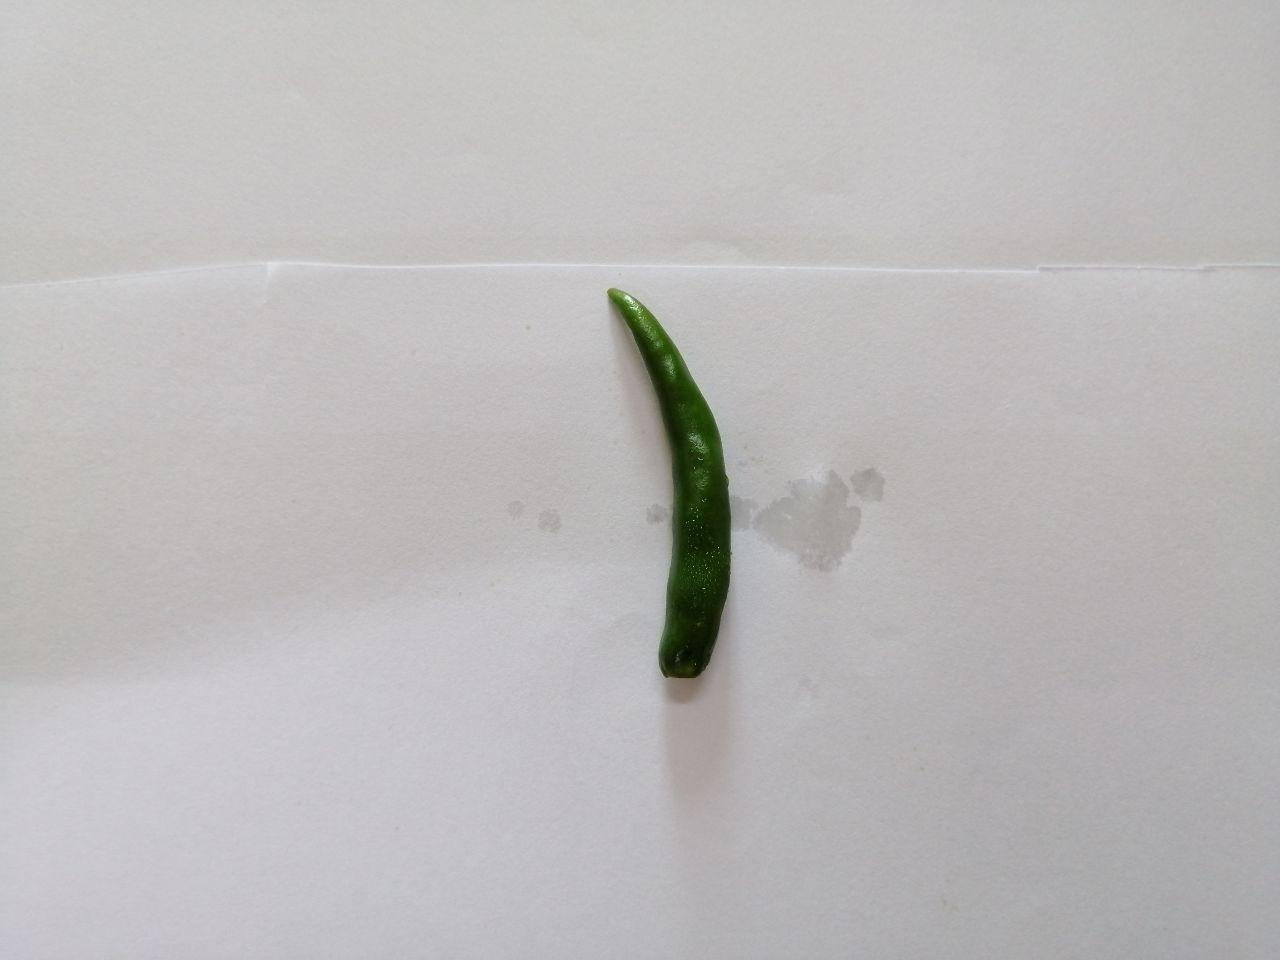lada hijau: (574, 269, 785, 706)
